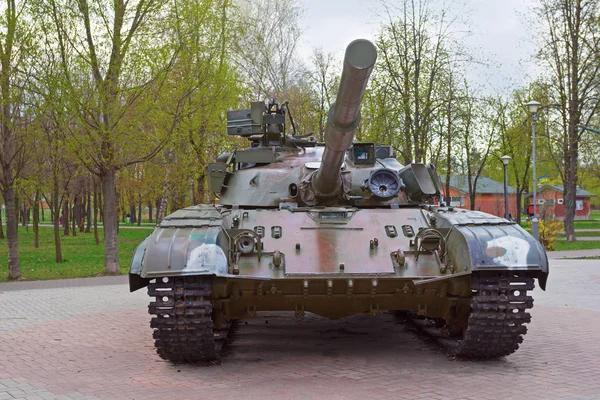tank: (140, 33, 552, 378)
